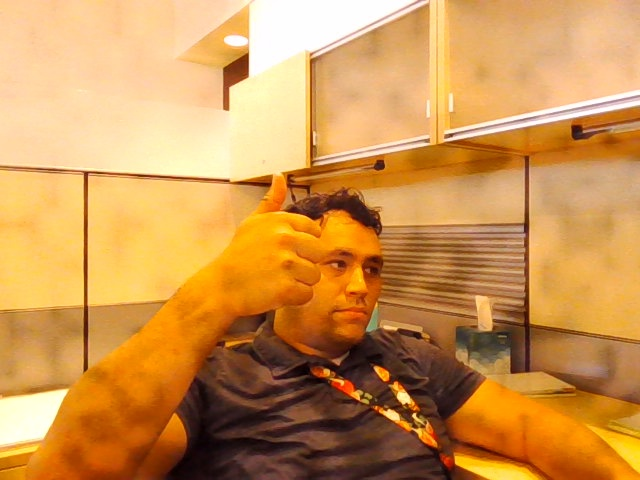ThumbsUp: (229, 169, 324, 317)
